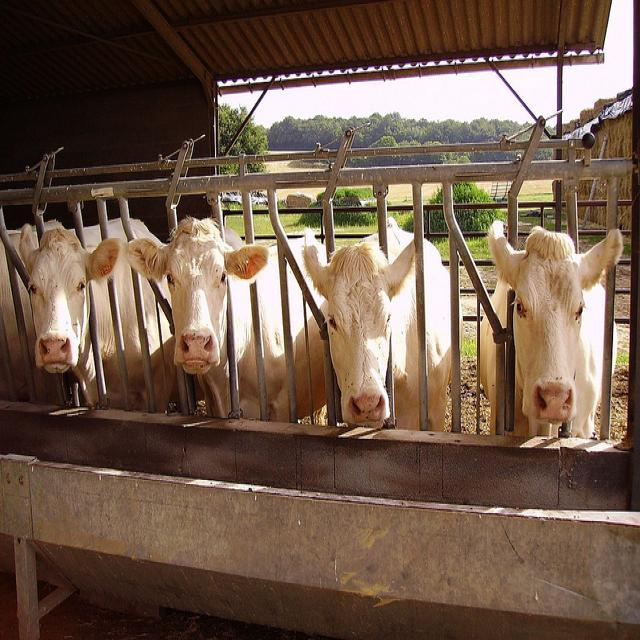cow: (121, 215, 292, 425), (307, 221, 462, 431), (475, 212, 620, 435), (0, 215, 160, 404), (18, 219, 123, 406)
